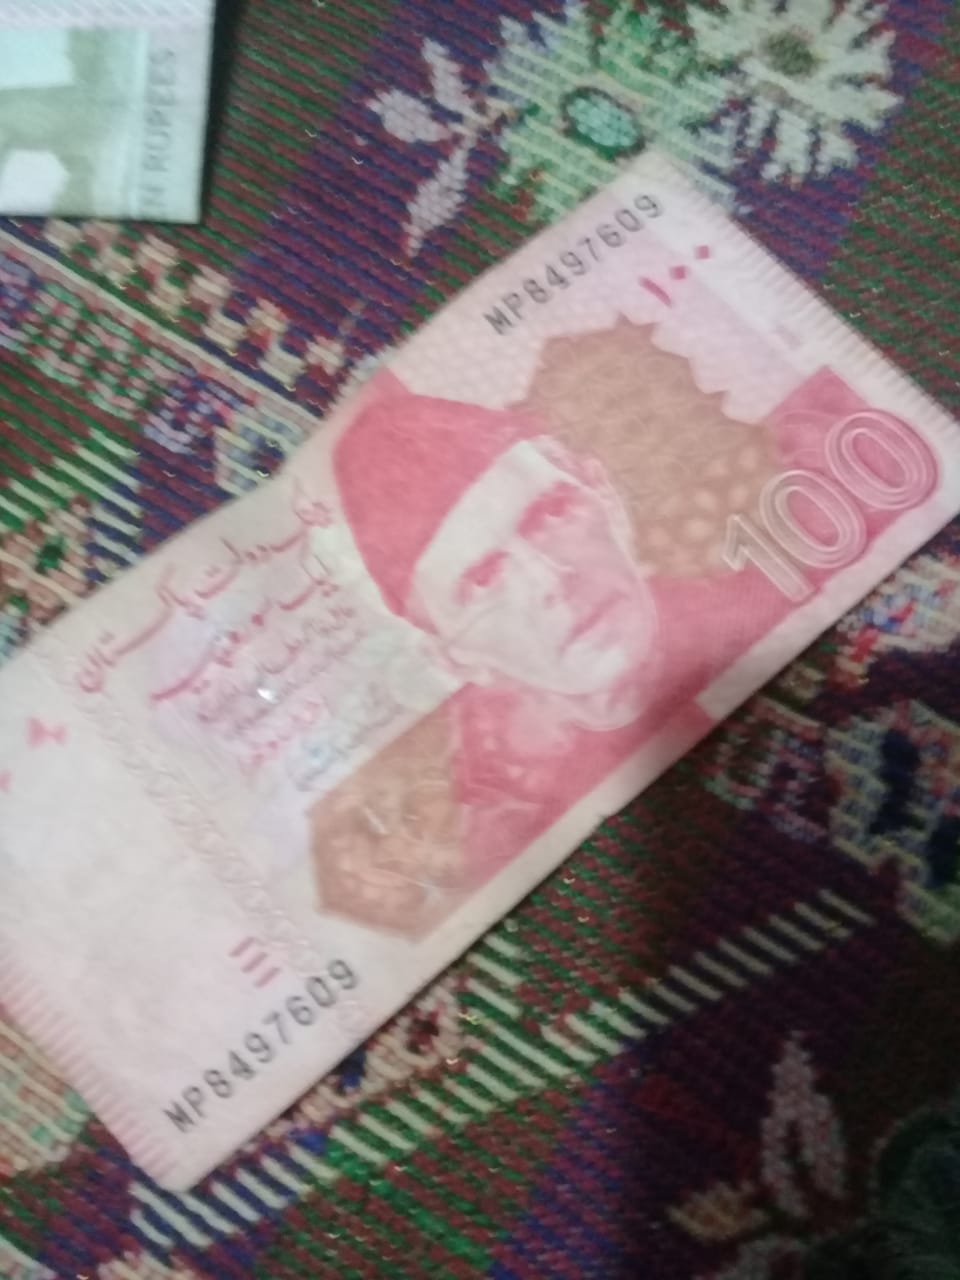100 rupee: (3, 142, 940, 1168)
